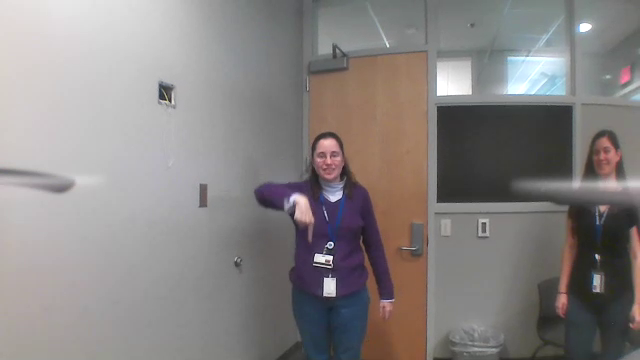down: (289, 183, 315, 250)
